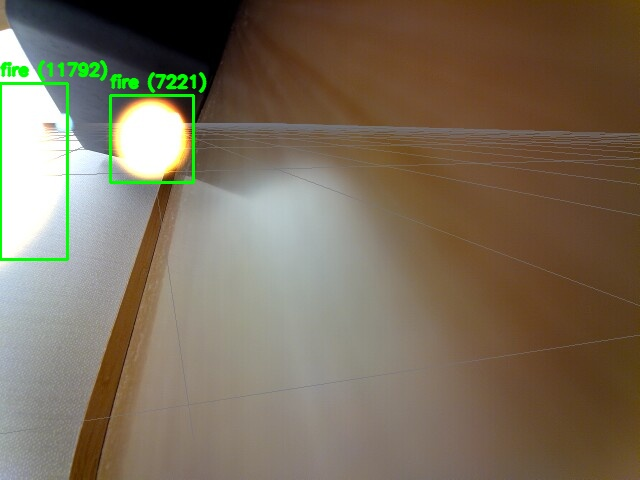fire: (0, 83, 67, 259), (110, 95, 193, 182)
